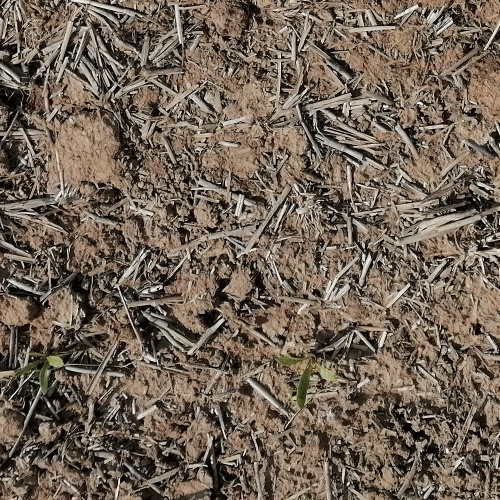beet: (275, 347, 338, 411), (11, 351, 67, 391)
